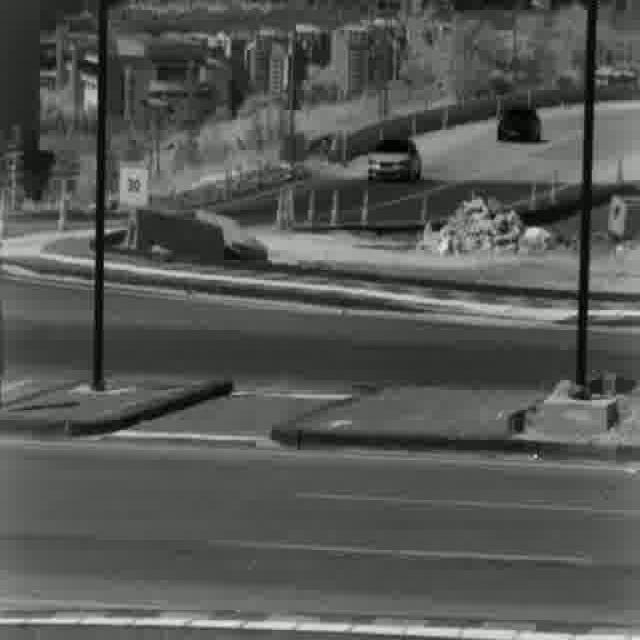Car: (368, 136, 422, 182), (495, 106, 542, 143)
